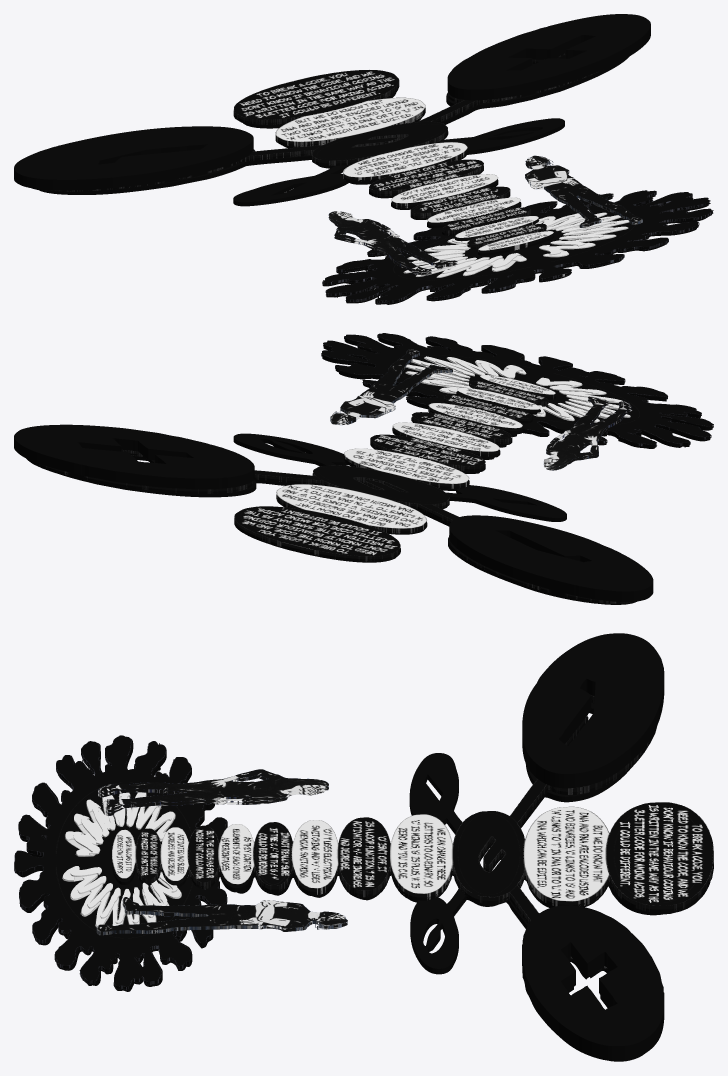
Rendered from Nodes.fbx.
3 views of the same model, one above another, from view 1: azimuth 30°, elevation 25°; view 2: azimuth 150°, elevation 25°; view 3: azimuth 270°, elevation 25° (orthographic). The views are drawn at different scales.
Visible parts, largest first — view 1: Text_discs, Curve.001, Virus, Curve.002, Text_discs.001, D1, D2, Curve, Curve.020; view 2: Text_discs, Curve.001, Virus, Curve.002, Text_discs.001, D1, D2, Curve, Curve.020; view 3: Text_discs, Curve.001, Virus, Curve.002, Text_discs.001, D1, D2, Curve, Curve.020.
Part boxes in pixels (bbox=[...]): Text_discs: bbox=[45, 53, 597, 251]; Curve.001: bbox=[14, 14, 650, 190]; Virus: bbox=[322, 190, 713, 303]; Curve.002: bbox=[39, 54, 711, 304]; Text_discs.001: bbox=[32, 53, 620, 255]; D1: bbox=[525, 155, 642, 227]; D2: bbox=[328, 211, 457, 275]; Curve: bbox=[411, 215, 616, 273]; Curve.020: bbox=[404, 212, 629, 277]; Text_discs: bbox=[36, 375, 630, 603]; Curve.001: bbox=[14, 424, 653, 602]; Virus: bbox=[321, 333, 713, 446]; Curve.002: bbox=[63, 336, 712, 603]; Text_discs.001: bbox=[26, 378, 636, 604]; D1: bbox=[330, 349, 452, 425]; D2: bbox=[543, 396, 631, 470]; Curve: bbox=[415, 359, 619, 417]; Curve.020: bbox=[405, 356, 630, 422]; Text_discs: bbox=[112, 695, 713, 987]; Curve.001: bbox=[522, 633, 664, 1060]; Virus: bbox=[14, 735, 226, 990]; Curve.002: bbox=[17, 702, 662, 1059]; Text_discs.001: bbox=[111, 696, 713, 1061]; D1: bbox=[96, 897, 347, 935]; D2: bbox=[98, 769, 328, 815]; Curve: bbox=[70, 792, 177, 923]; Curve.020: bbox=[63, 792, 182, 926].
Size of the model in its own units: 671 by 19.99 by 481.
Materials: 9 (6 with a texture image).
